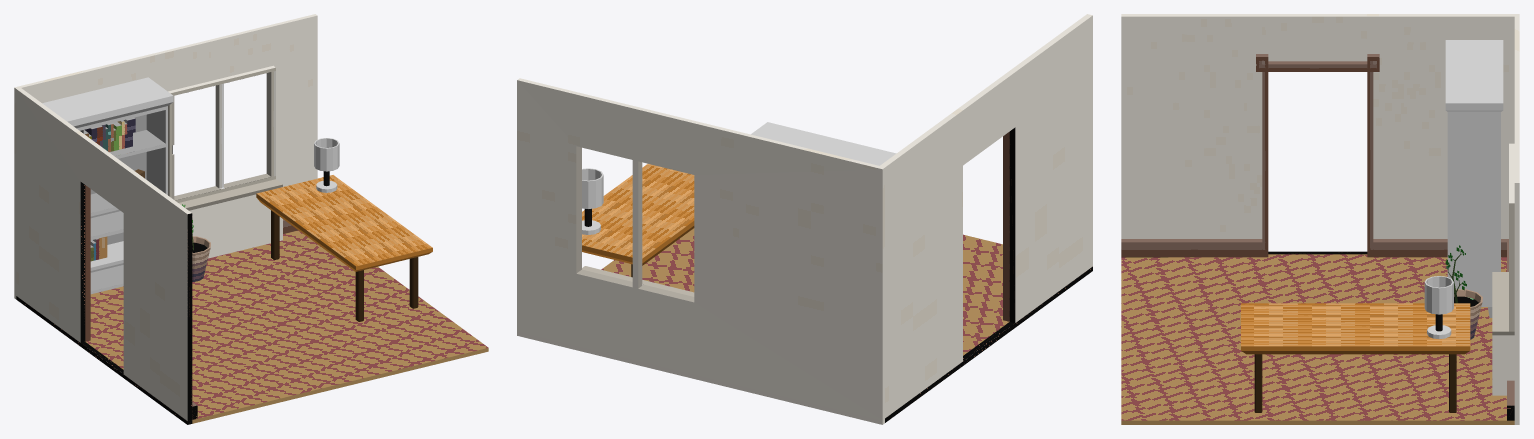
Rendered from pixel_room.glb.
3 views of the same model, side by side, from view 1: azimuth 30°, elevation 25°; view 2: azimuth 150°, elevation 25°; view 3: azimuth 270°, elevation 25° (orthographic). The views are drawn at different scales.
Parts seen in each view (by area): view 1: Floor, SideWall, BackWall, Bookcase, Desk, Lamp, Plant; view 2: BackWall, SideWall, Desk, Floor, Bookcase, Lamp; view 3: SideWall, Floor, Bookcase, Desk, BackWall, Lamp, Plant.
Part boxes in pixels (x1,y1,x2,y2): Floor: (85,230,488,423); SideWall: (16,88,197,424); BackWall: (14,14,317,299); Bookcase: (42,77,173,294); Desk: (256,175,432,321); Lamp: (314,138,339,192); Plant: (182,204,210,281); BackWall: (517,78,884,424); SideWall: (880,14,1092,422); Desk: (582,164,694,277); Floor: (601,228,1009,355); Bookcase: (751,122,896,165); Lamp: (582,168,603,234); SideWall: (1121,14,1514,257); Floor: (1121,254,1514,424); Bookcase: (1445,40,1503,317); Desk: (1241,303,1470,412); BackWall: (1492,14,1519,424); Lamp: (1424,276,1453,339); Plant: (1445,245,1482,339).
Size of the model in its own units: 4.11 by 2.75 by 4.1.
Materials: 11 (6 with a texture image).
